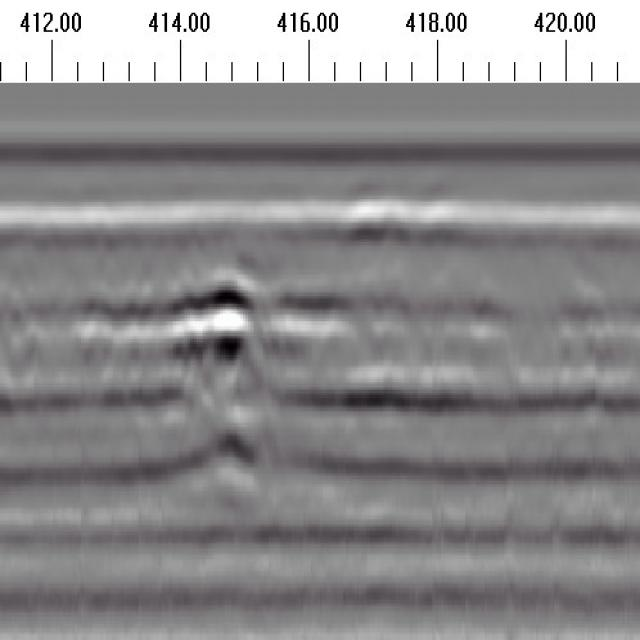loose: (94, 281, 342, 429)
